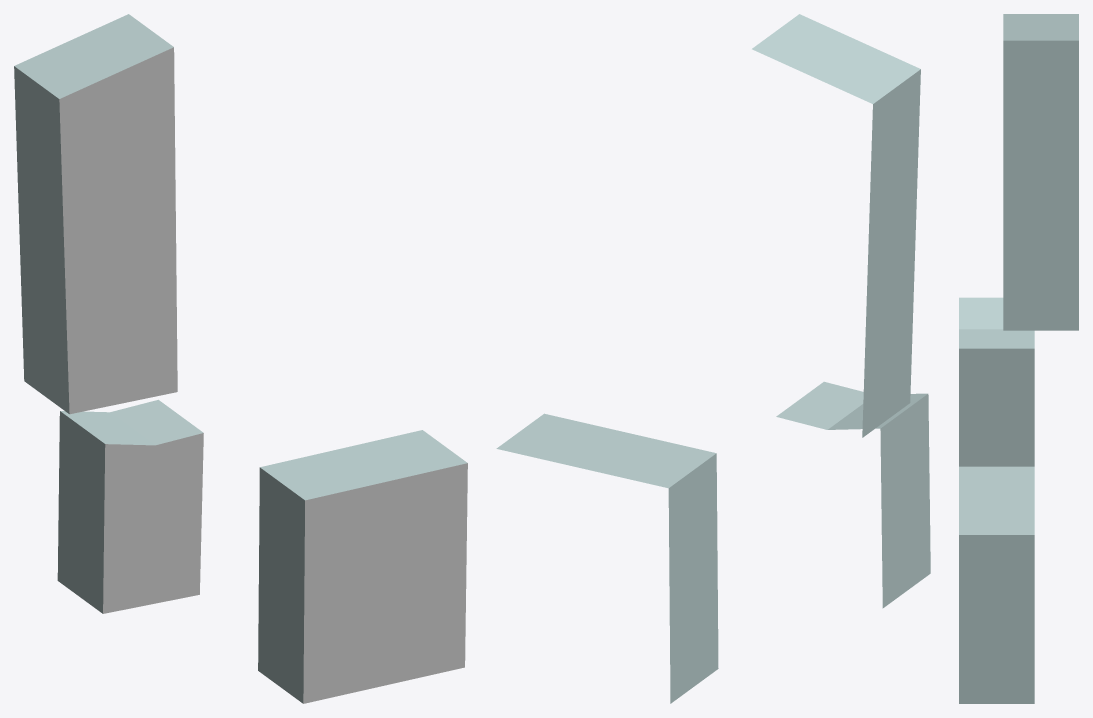
3 views of the same model, side by side, from view 1: azimuth 30°, elevation 25°; view 2: azimuth 150°, elevation 25°; view 3: azimuth 270°, elevation 25° (orthographic). The views are drawn at different scales.
Visible parts, largest first — view 1: 0_1_2_1_1_1_0_1_3; view 2: 0_1_2_1_1_1_0_1_3; view 3: 0_1_2_1_1_1_0_1_3.
Part boxes in pixels (<box>): 0_1_2_1_1_1_0_1_3: <box>14,14,467,703</box>; 0_1_2_1_1_1_0_1_3: <box>496,14,930,703</box>; 0_1_2_1_1_1_0_1_3: <box>959,14,1078,703</box>.
Size of the model in its own units: 14.6 by 24.31 by 4.75.
